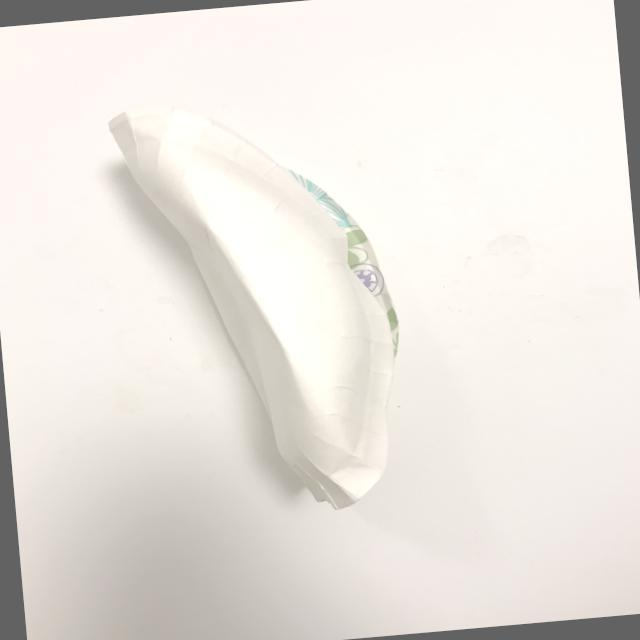Paper: (90, 57, 502, 598)
